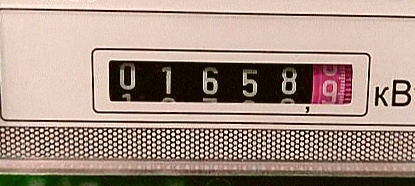0: (117, 59, 138, 92)
1: (161, 64, 174, 95)
5: (241, 66, 260, 99)
6: (201, 65, 221, 96)
8: (280, 65, 299, 97)
9: (320, 78, 338, 104)
screen: (83, 39, 375, 122)
